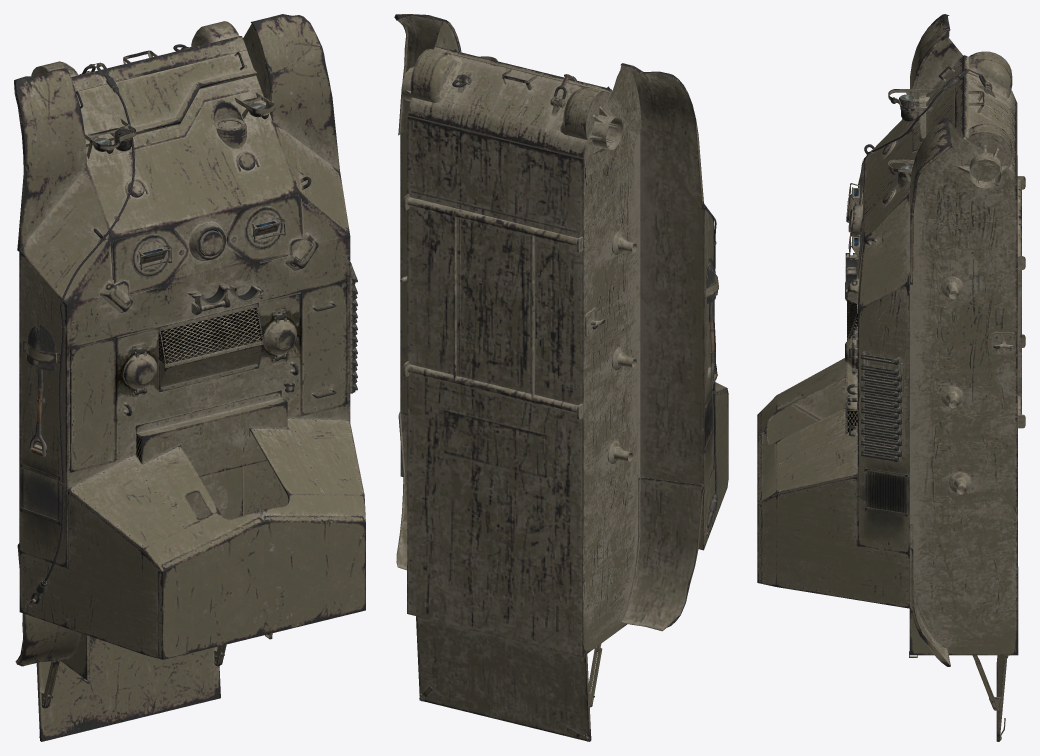
Rendered from Hull.glb.
The picture shows the model from 3 angles, left to right: view 1: azimuth 30°, elevation 25°; view 2: azimuth 150°, elevation 25°; view 3: azimuth 270°, elevation 25°; orthographic projection. The views are drawn at different scales.
Parts seen in each view (by area): view 1: set_0_group_0; view 2: set_0_group_0; view 3: set_0_group_0.
Boxes of the visible parts, x1,y1,x2,y2 form: set_0_group_0: (14, 14, 365, 741); set_0_group_0: (394, 14, 728, 741); set_0_group_0: (757, 14, 1025, 741).
Bounding box in the file's own units: 2.56 × 5.22 × 2.03.
Materials: 1 (1 with a texture image).
